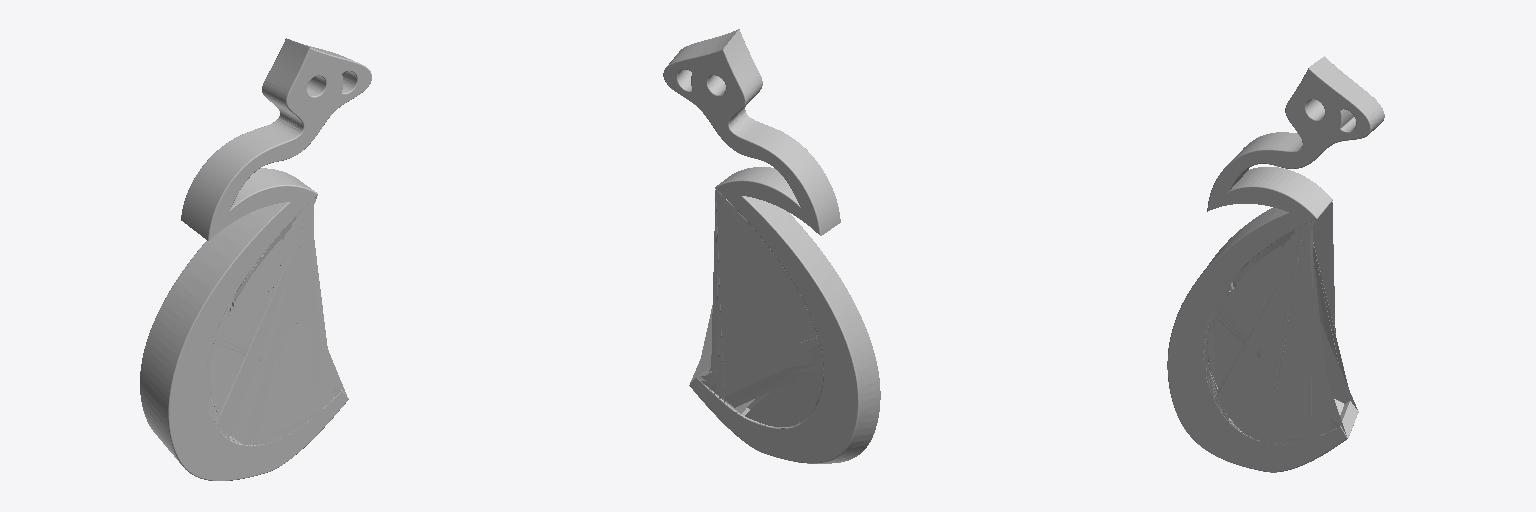
File: Heech Parvis Tanavoli.obj
3 renders of one model, left to right at view 1: azimuth 30°, elevation 25°; view 2: azimuth 150°, elevation 25°; view 3: azimuth 330°, elevation 25°, orthographic.
Visible parts, largest first — view 1: Default; view 2: Default; view 3: Default.
Boxes of the visible parts, box(x1,y1,x2,y2) form: Default: box(140, 38, 371, 480); Default: box(663, 29, 880, 463); Default: box(1167, 56, 1384, 472).
Size of the model in its own units: 18.33 by 35.1 by 3.93.